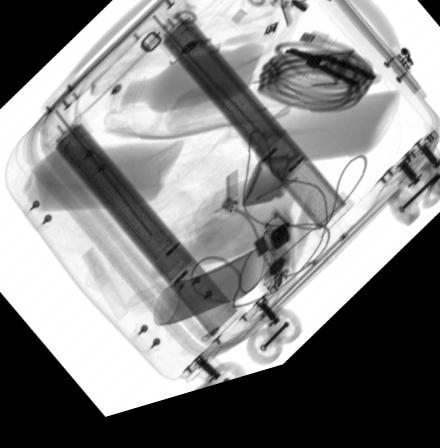Pliers: (282, 62, 376, 107)
